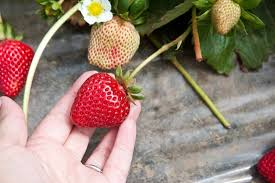ripe: (69, 67, 136, 133), (1, 31, 42, 106), (259, 145, 275, 179)
unripe: (85, 12, 142, 71), (204, 0, 242, 37)
